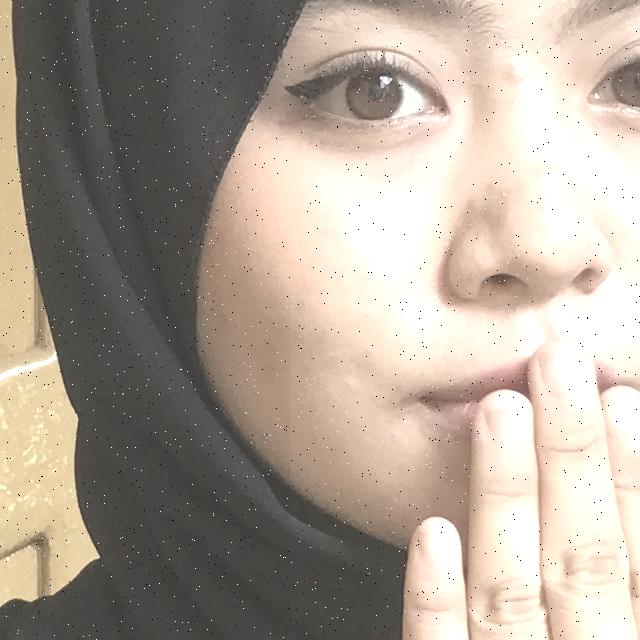ganteng: (290, 296, 640, 640)
